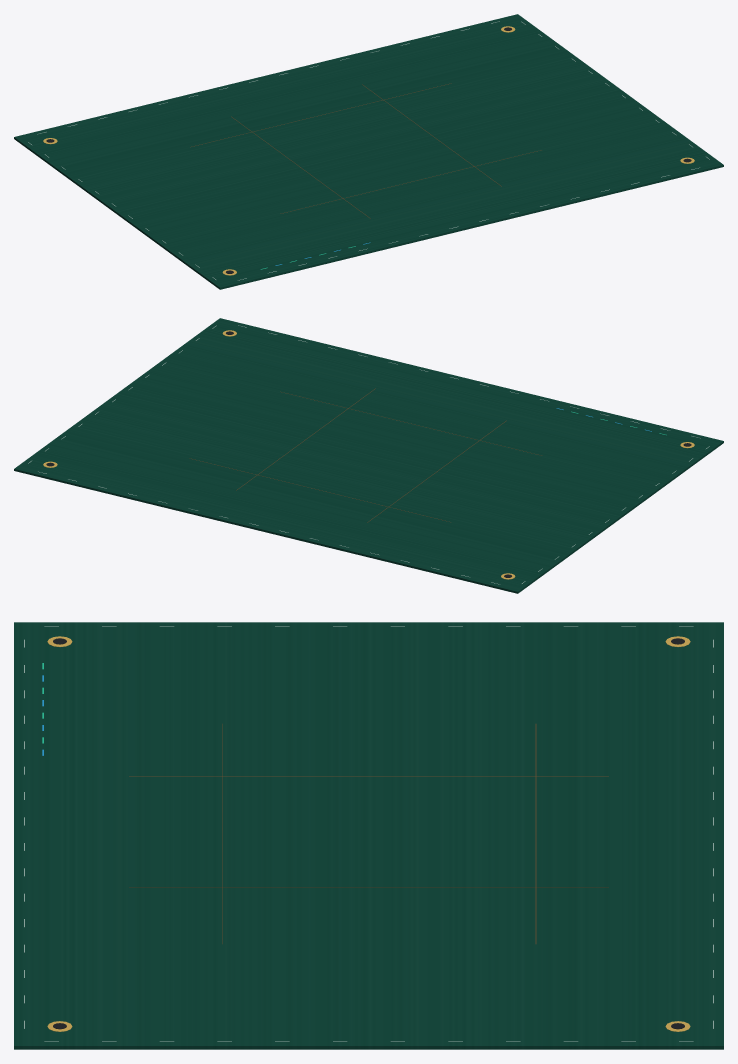
Rendered from 237_L118_PCB_Main.obj.
3 views of the same model, one above another, from view 1: azimuth 30°, elevation 25°; view 2: azimuth 150°, elevation 25°; view 3: azimuth 270°, elevation 25° (orthographic). The views are drawn at different scales.
Visible parts, largest first — view 1: 237_L118_PCB_Main; view 2: 237_L118_PCB_Main; view 3: 237_L118_PCB_Main.
Boxes of the visible parts, x1,y1,x2,y2 form: 237_L118_PCB_Main: [14, 14, 723, 289]; 237_L118_PCB_Main: [14, 318, 723, 593]; 237_L118_PCB_Main: [14, 622, 723, 1049].
Size of the model in its own units: 0.48 by 0.00212 by 0.34.
Materials: 7 (7 with a texture image).
